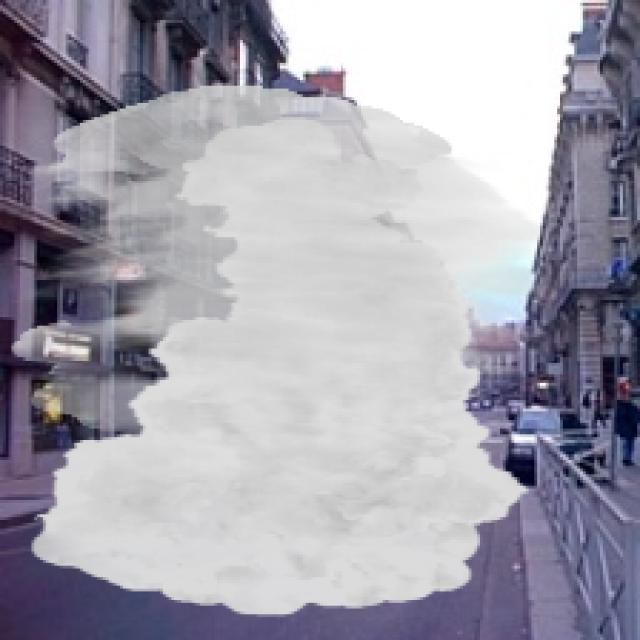smoke: (11, 86, 552, 617)
